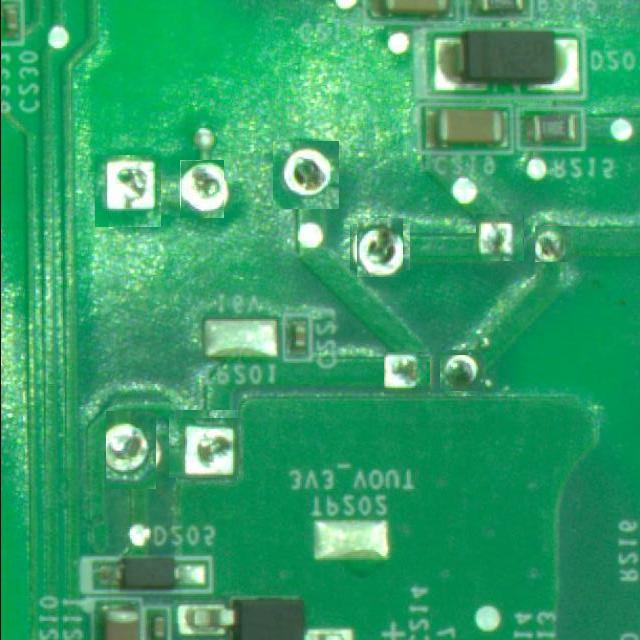lack_of_part: (94, 156, 163, 226), (172, 414, 240, 482), (273, 141, 340, 209), (106, 411, 156, 489), (354, 220, 407, 274), (180, 160, 224, 218), (476, 214, 524, 261), (384, 352, 430, 394), (442, 353, 483, 394), (535, 225, 572, 262)
